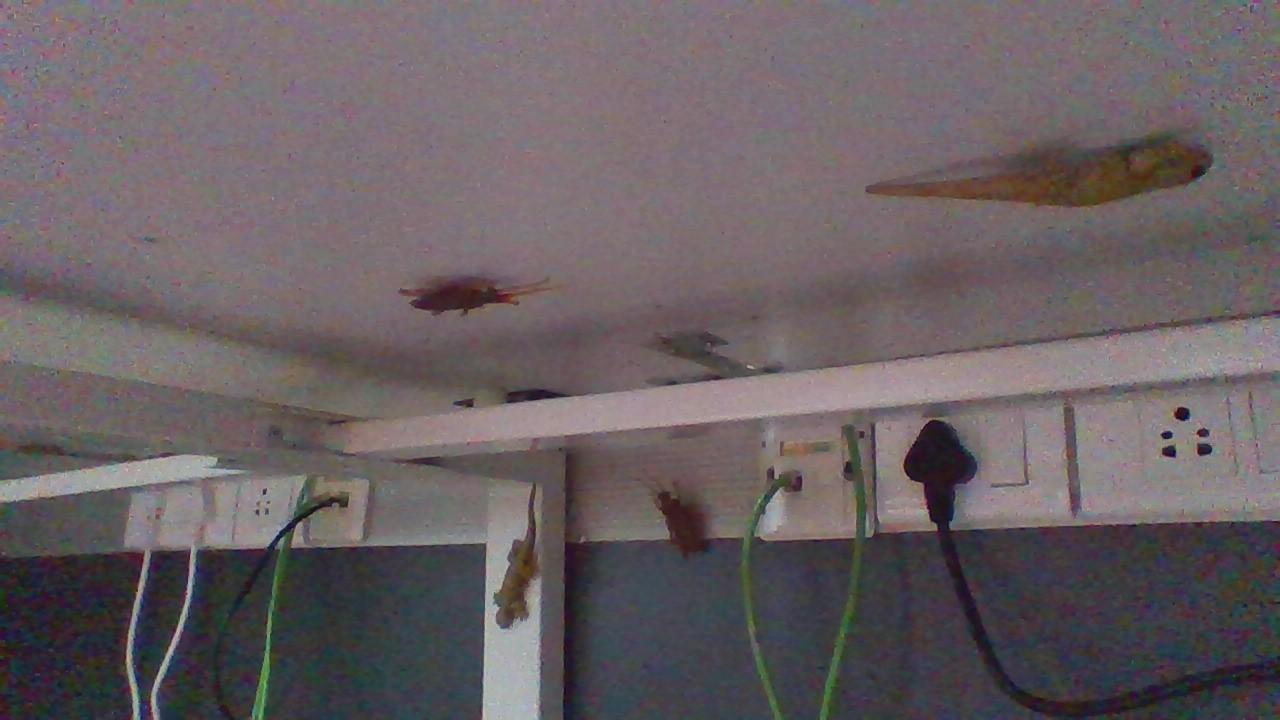cockroach: (377, 260, 562, 327), (632, 465, 714, 564)
lizard: (850, 122, 1218, 229), (489, 475, 554, 632)
